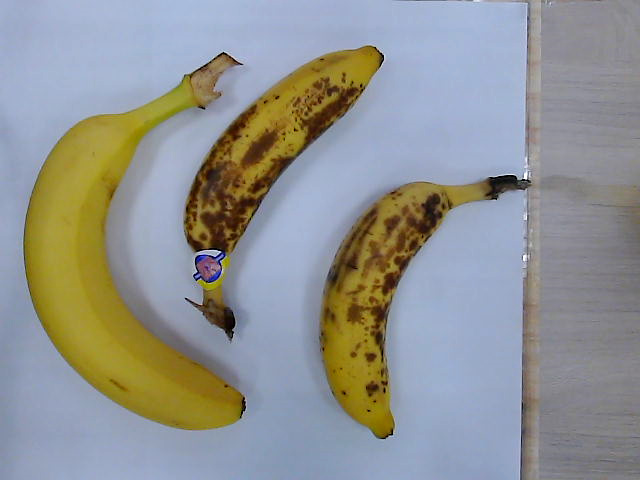fresh_banana: (25, 55, 248, 430)
rotten_banana: (184, 47, 384, 333), (319, 177, 535, 441)
